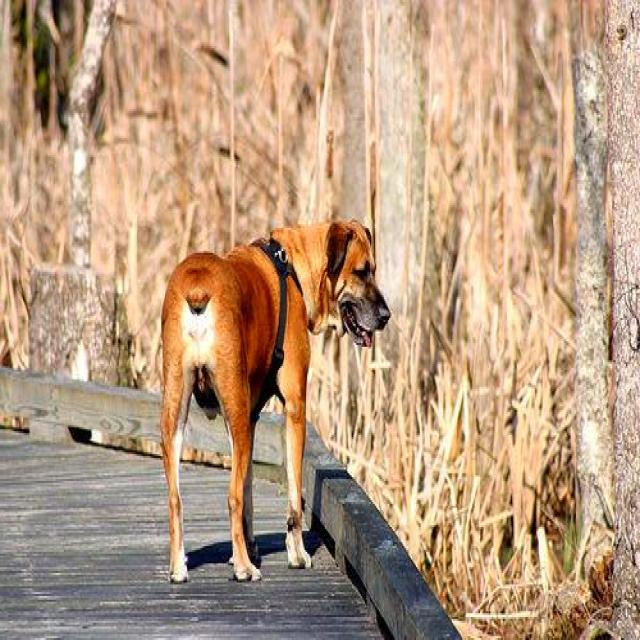rhodesian_ridgeback: (157, 212, 393, 588)
